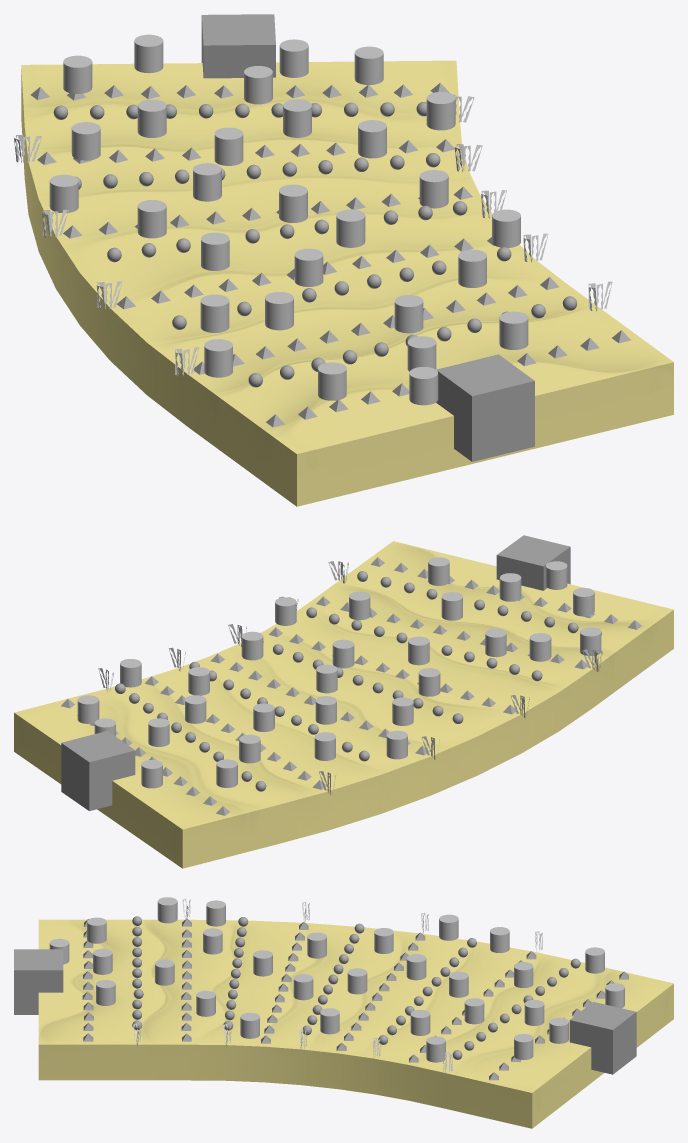
The model's file is assets007_Streckenteil_rechts002.fbx.
3 views of the same model, one above another, from view 1: azimuth 30°, elevation 25°; view 2: azimuth 150°, elevation 25°; view 3: azimuth 270°, elevation 25° (orthographic). The views are drawn at different scales.
Parts seen in each view (by area): view 1: streckenteil_rechtskurve_geo2, a (×12), b (×10), startpoint, c (×6), startpoint2, d; view 2: streckenteil_rechtskurve_geo2, a (×12), b (×10), startpoint2, c (×5), startpoint, d; view 3: streckenteil_rechtskurve_geo2, a (×11), b (×10), startpoint2, c (×6), startpoint, d.
Part boxes in pixels (x1,y1,x2,y2): streckenteil_rechtskurve_geo2: (21, 60, 673, 506); a (×12): (200, 170, 528, 405); b (×10): (49, 92, 455, 286); startpoint: (436, 354, 534, 461); c (×6): (63, 39, 383, 165); startpoint2: (201, 14, 275, 78); d: (134, 34, 163, 73); streckenteil_rechtskurve_geo2: (14, 541, 673, 868); a (×12): (241, 557, 601, 668); b (×10): (120, 636, 440, 760); startpoint2: (61, 731, 135, 810); c (×5): (77, 695, 274, 787); startpoint: (496, 535, 570, 590); d: (141, 760, 162, 788); streckenteil_rechtskurve_geo2: (38, 919, 673, 1128); a (×11): (87, 897, 339, 1038); b (×10): (253, 914, 509, 1062); startpoint2: (569, 1002, 636, 1074); c (×6): (449, 947, 604, 1059); startpoint: (14, 949, 63, 1014); d: (605, 983, 624, 1008).
Bounding box in the file's own units: 42.63 × 7.5 × 66.95.
